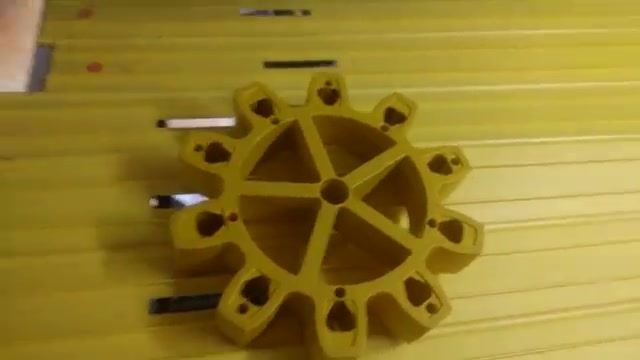gear: (157, 56, 496, 360)
